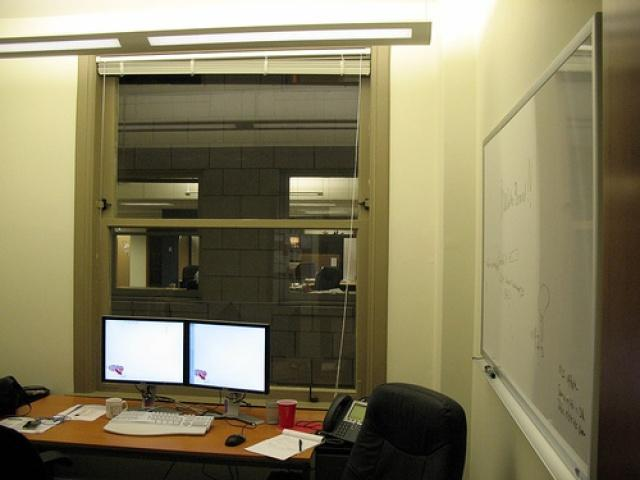AIO PC-Monitor-TV: (185, 318, 270, 394), (100, 313, 185, 386)
Whiteboard: (469, 10, 603, 479)
